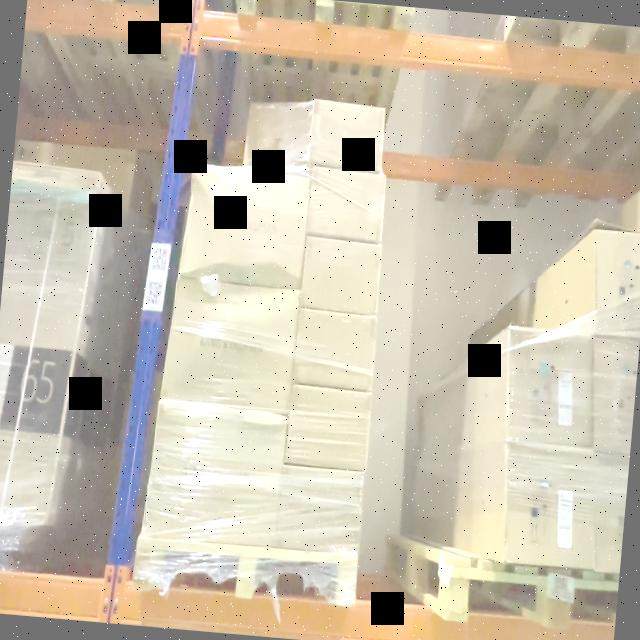box: (144, 404, 287, 547), (164, 282, 297, 409), (182, 164, 308, 286), (502, 448, 596, 568), (502, 332, 596, 448), (286, 388, 371, 470), (278, 470, 360, 552), (296, 312, 372, 387), (306, 168, 384, 241), (302, 241, 378, 313), (590, 339, 638, 452), (590, 230, 640, 336), (310, 101, 384, 170), (588, 455, 628, 571), (247, 104, 312, 168), (10, 161, 100, 194)
